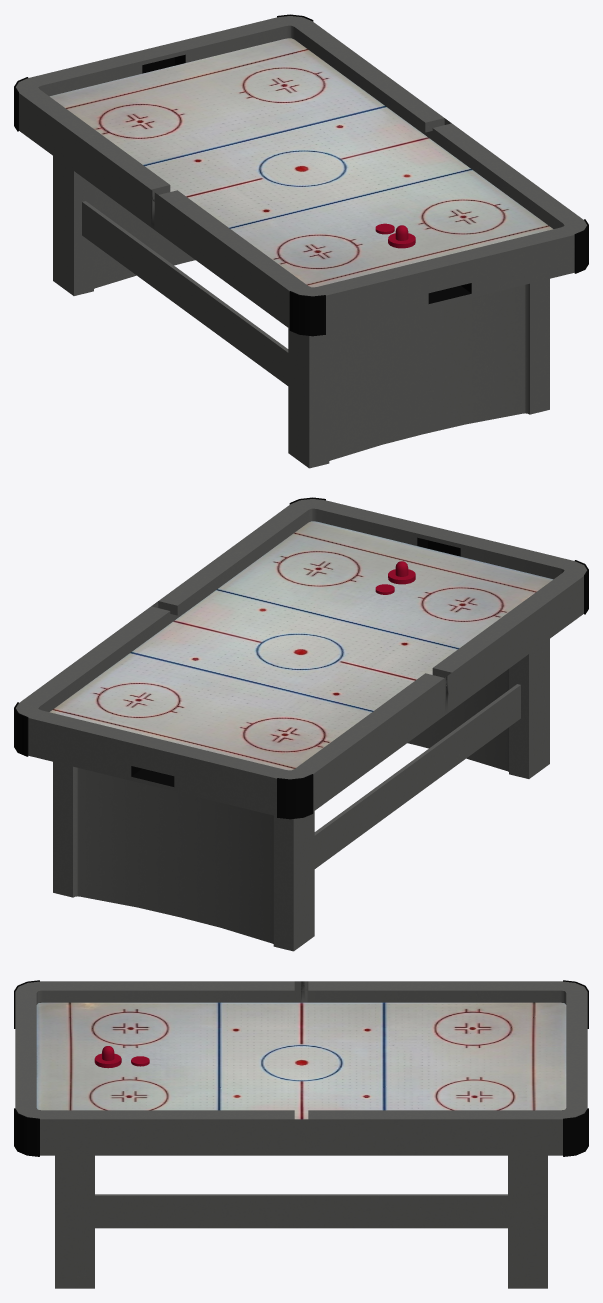
Rendered from air_hockey 1.fbx.
The picture shows the model from 3 angles, top to bottom: view 1: azimuth 30°, elevation 25°; view 2: azimuth 150°, elevation 25°; view 3: azimuth 270°, elevation 25°; orthographic projection. The views are drawn at different scales.
Visible parts, largest first — view 1: table_air_hockey; view 2: table_air_hockey; view 3: table_air_hockey, pusher_air_hockey.
Part boxes in pixels (x1,y1,x2,y2): table_air_hockey: (14, 14, 588, 468); table_air_hockey: (14, 497, 588, 951); table_air_hockey: (14, 980, 588, 1288); pusher_air_hockey: (94, 1046, 121, 1068).
Bounding box in the file's own units: 123 × 76.61 × 215.
